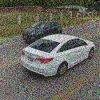cars: (20, 33, 96, 79), (22, 21, 63, 43)
